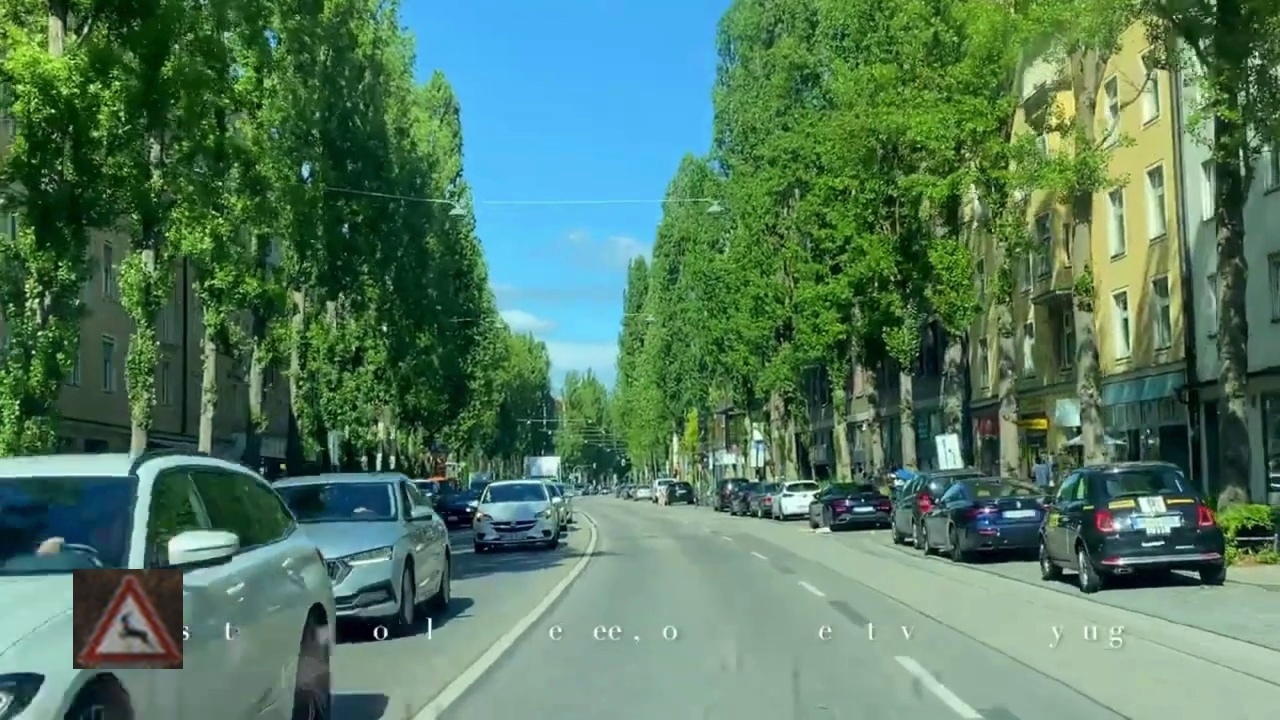Wild animals: (73, 569, 183, 669)
